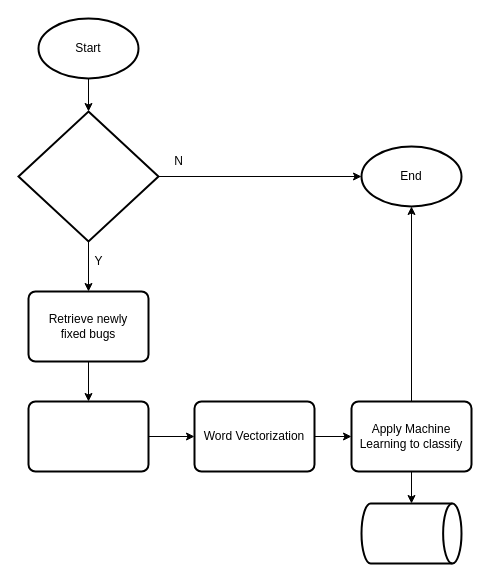
This 489x581 diagram has some shape labels left out. The shapes that lost their labels are listed below. From the top down, each one's centre as x and y in pixels, then its label:
[88,176]: Is Extraction Job Triggered
[88,436]: Data Pre-Processing
[411,533]: ML Store
